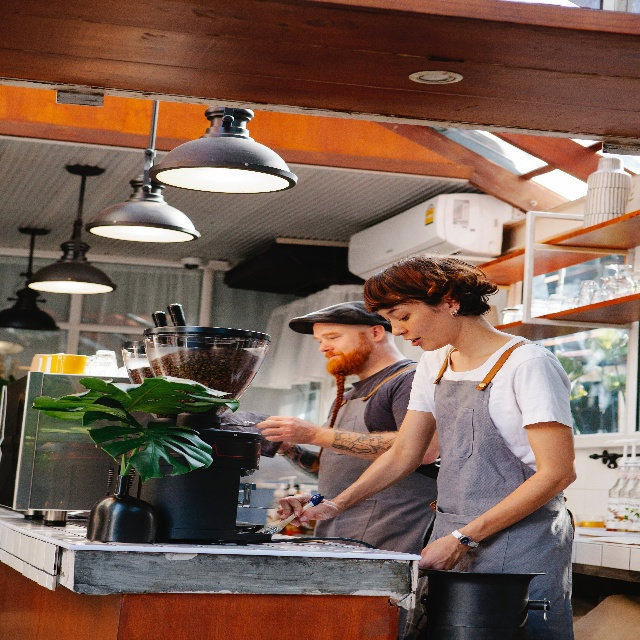Sin_guantes: (417, 532, 467, 578), (277, 492, 339, 527), (256, 415, 316, 446)
